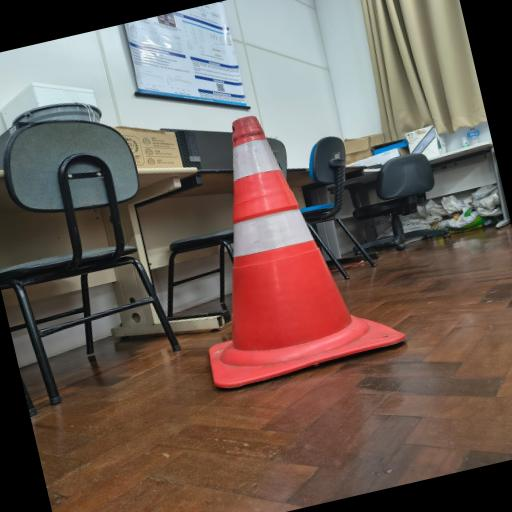cone: (160, 90, 408, 390)
